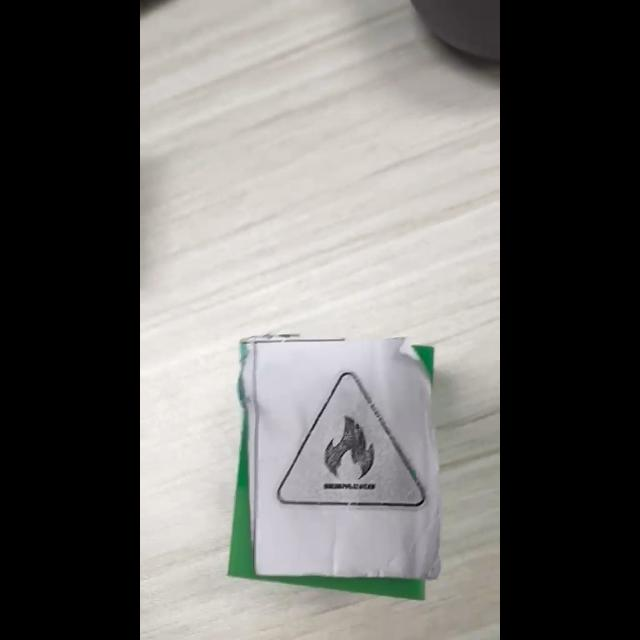Fire: (278, 371, 427, 511)
